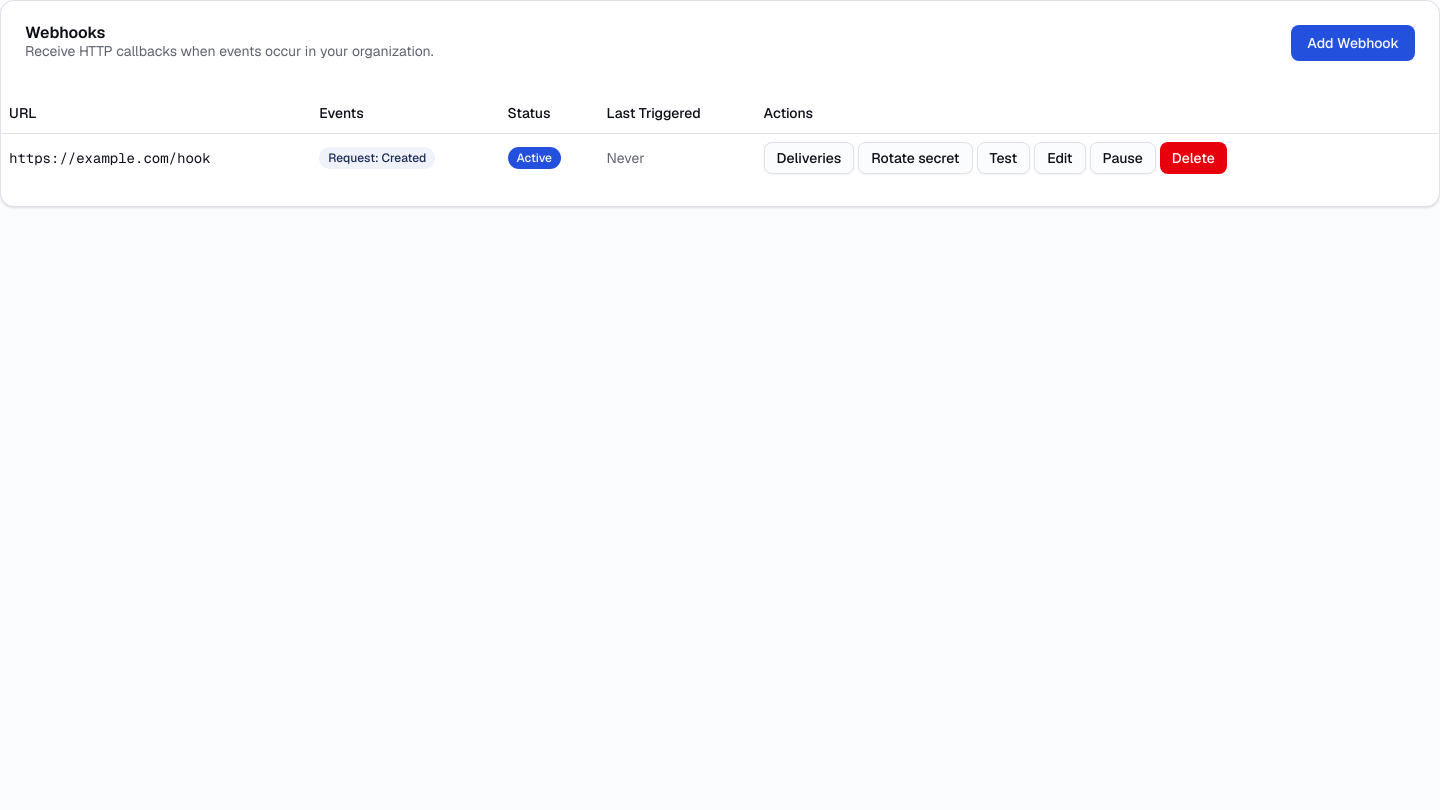
Test: explains immediate rotation before revealing the new secret
The width and height of the screenshot is (1440, 810).
Click the button "Rotate secret" at (915, 158), box [858,142,973,174]
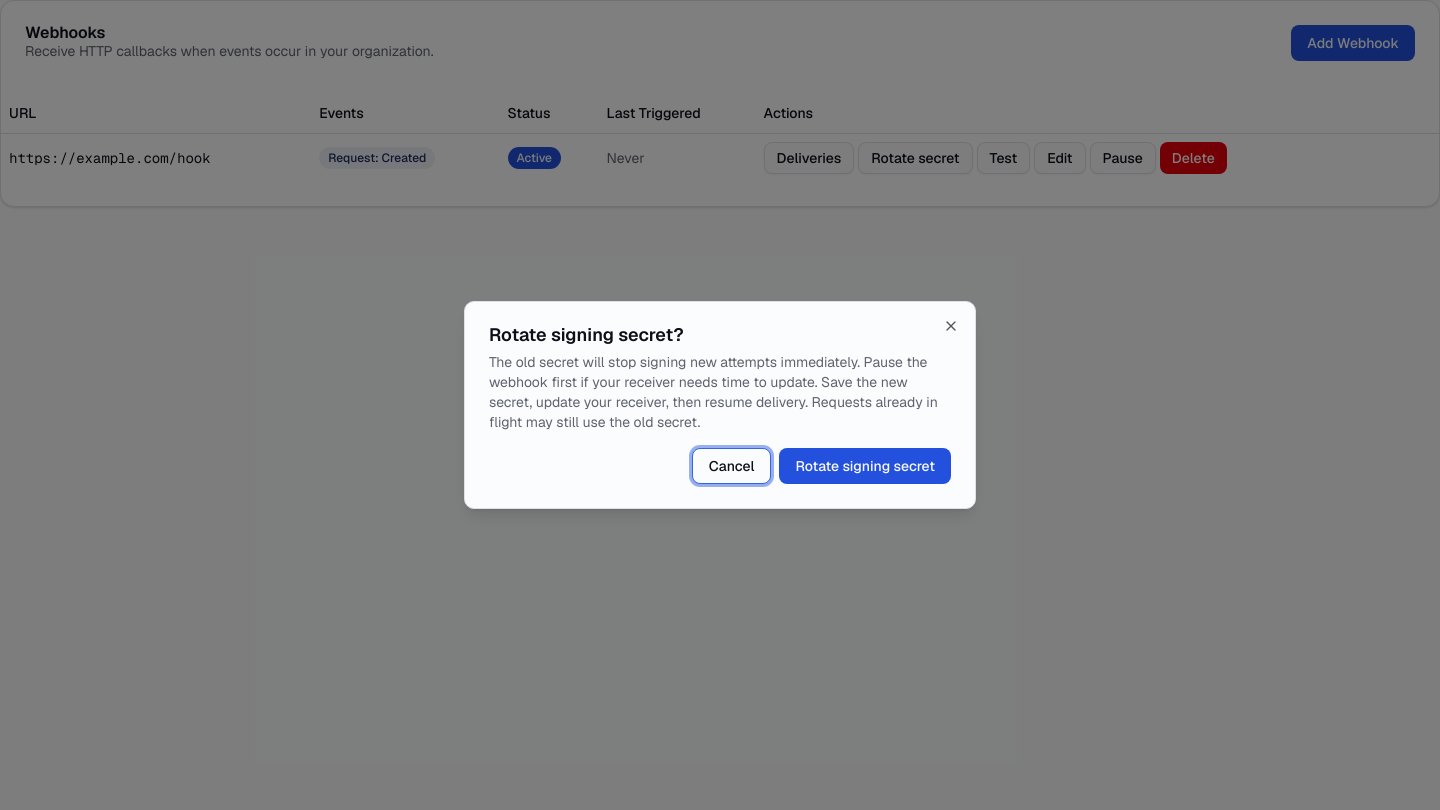
Now the text "old secret will stop" is shown, box [489,353,938,431]
Click the button "Rotate signing secret" at (865, 466), box [779,448,951,484]
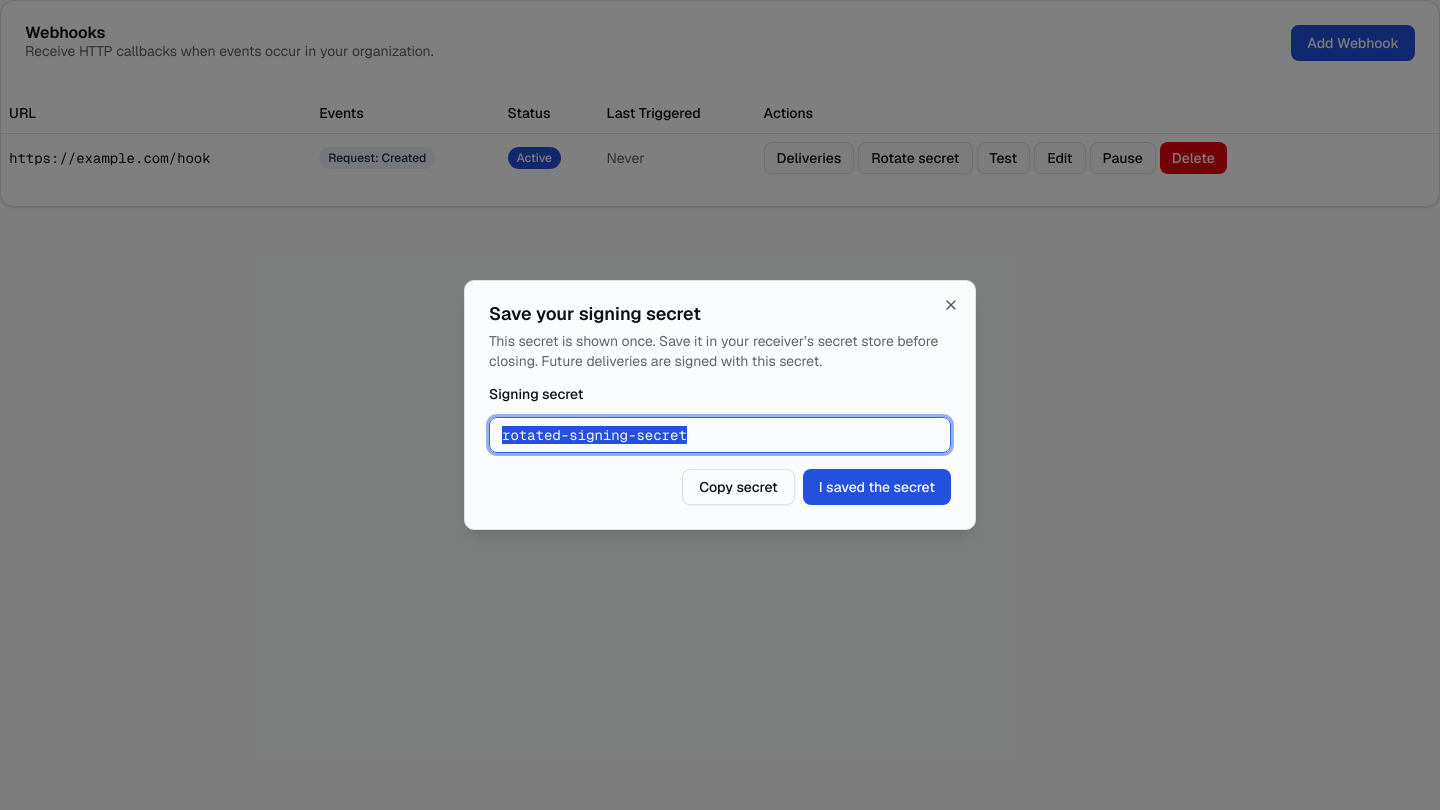
Now the field labelled "Signing secret" holds "rotated-signing-secret", box [489,417,951,453]
